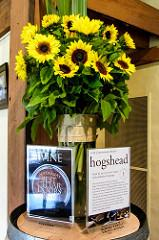sunflower: (27, 33, 59, 60), (67, 41, 92, 68), (52, 55, 74, 78), (94, 57, 113, 81), (13, 50, 28, 79), (114, 53, 136, 72), (102, 25, 117, 43), (41, 13, 59, 25), (122, 33, 137, 47)
